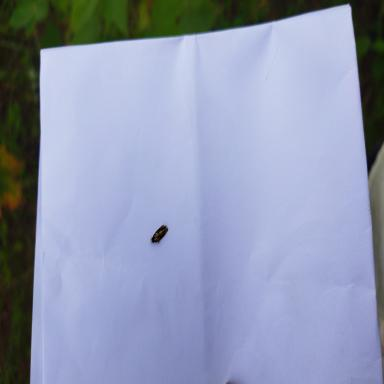pbw: (150, 224, 168, 243)
